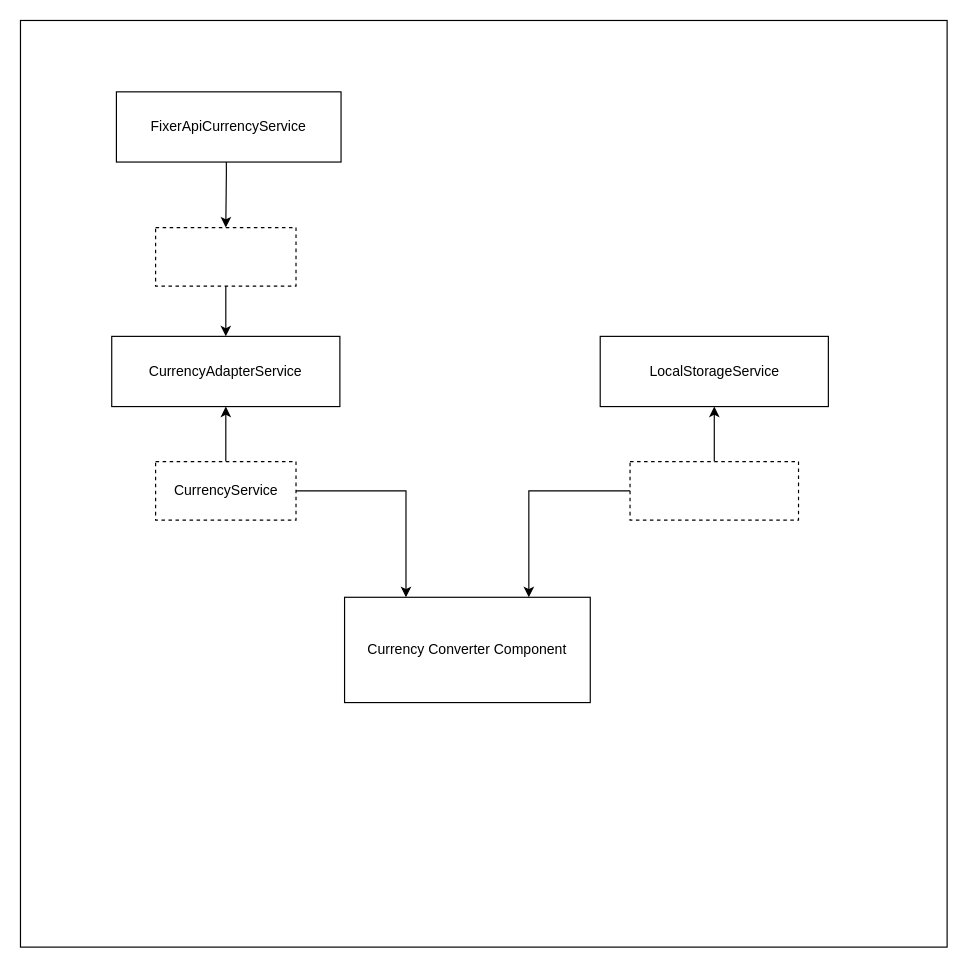
This 968x968 diagram has some shape labels left out. The centre of each missing label's shape, as x and y in pixels:
"CurrencyAPIService" belongs at point 225,256.
"PersistCurrenciesService" belongs at point 714,490.
